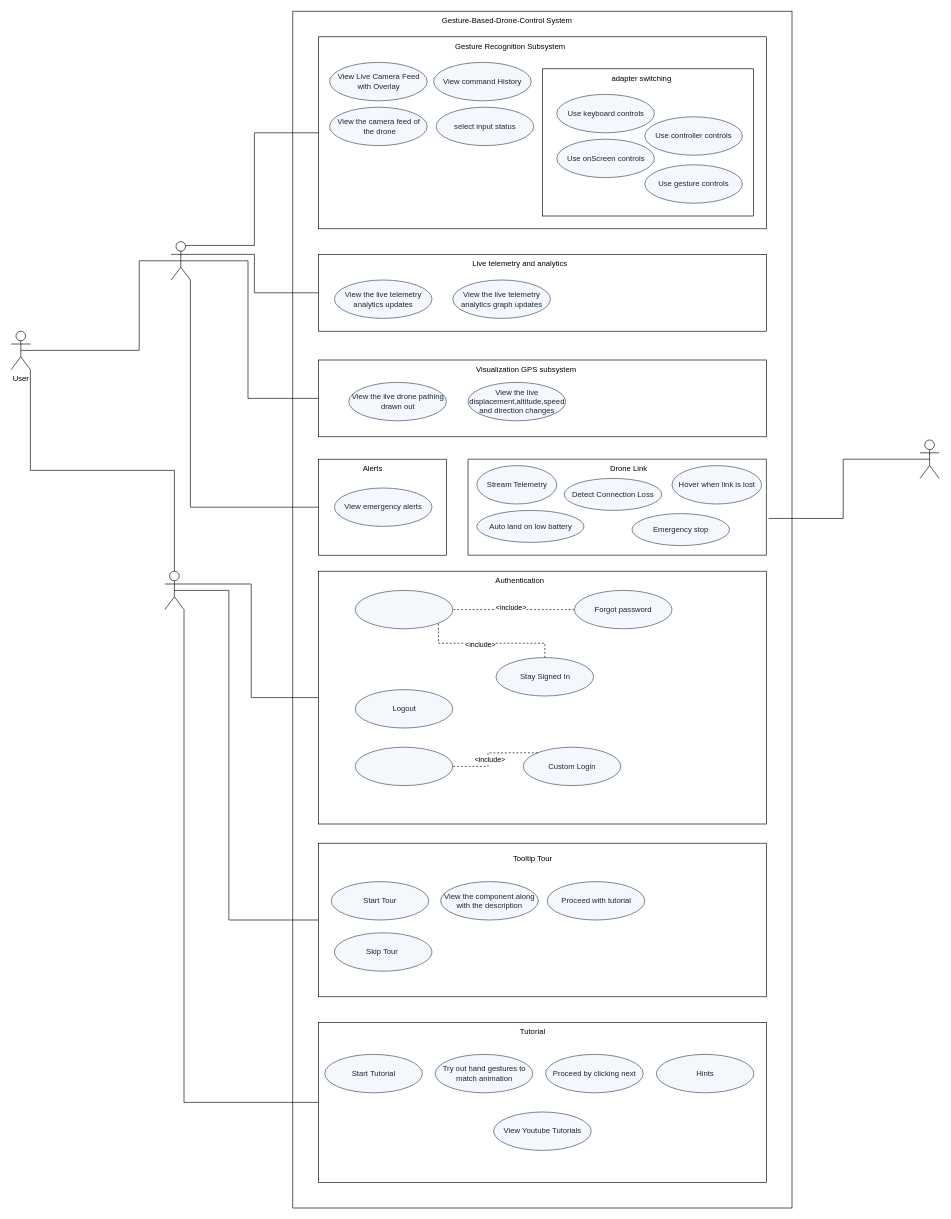
This 951x1219 diagram has some shape labels left out. The shapes that lost their labels are listed below. From the top down, each one's box as (x1, y1, x2, y2) in pixels, then its label:
(171, 241, 190, 280): Existing User
(919, 439, 939, 478): Drone
(164, 571, 184, 610): New User
(355, 590, 453, 629): Login
(355, 747, 453, 786): Register
